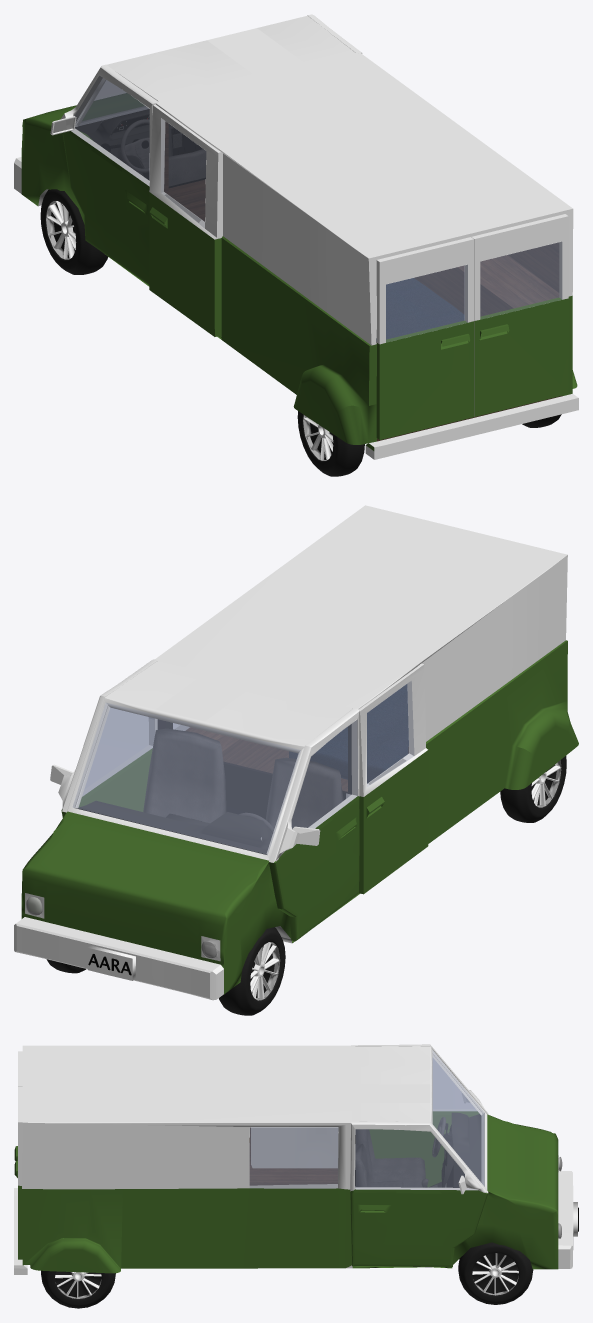
The model's file is Van.fbx.
The picture shows the model from 3 angles, top to bottom: view 1: azimuth 30°, elevation 25°; view 2: azimuth 150°, elevation 25°; view 3: azimuth 270°, elevation 25°; orthographic projection. The views are drawn at different scales.
Parts seen in each view (by area): view 1: Aircon3, Right_door_behinde8, Right_door_behinde7, pCube45, Side_Door, Wheel2, pCube48, Wheel5, pCube16, Handle; view 2: Aircon3, pCube45, Side_Door, pCube46, pCube10, pCube48, pCube16, Wheel2, Wheel5; view 3: Aircon3, pCube46, pCube45, Side_Door, Wheel4, Wheel6, pCube16, Right_door_behinde7, pCube10.
Boxes of the visible parts, x1,y1,x2,y2 form: Aircon3: (14,15,578,459); Right_door_behinde8: (376,237,473,439); Right_door_behinde7: (471,214,568,416); pCube45: (50,64,158,284); Side_Door: (149,104,222,336); Wheel2: (40,189,107,274); pCube48: (376,278,464,341); Wheel5: (297,411,364,476); pCube16: (168,149,206,186); Handle: (108,119,149,172); Aircon3: (14,505,578,1000); pCube45: (269,708,359,941); Side_Door: (359,663,428,894); pCube46: (50,659,157,817); pCube10: (143,728,226,822); pCube48: (289,684,408,783); pCube16: (265,757,343,833); Wheel2: (219,927,285,1015); Wheel5: (500,756,566,822); Aircon3: (14,1045,578,1274); pCube46: (350,1121,488,1266); pCube45: (351,1044,488,1187); Side_Door: (251,1127,338,1168); Wheel4: (458,1242,533,1304); Wheel6: (41,1270,115,1308); pCube16: (355,1129,425,1187); Right_door_behinde7: (14,1087,22,1259); pCube10: (355,1144,371,1187).
Size of the model in its own units: 0.0353 by 0.03 by 0.0829.
11 materials, 4 textured.
